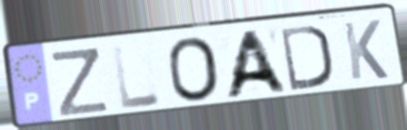A: (220, 27, 291, 101)
D: (277, 23, 334, 93)
K: (340, 18, 391, 83)
L: (110, 43, 164, 112)
O: (164, 35, 224, 104)
Z: (49, 46, 111, 119)
